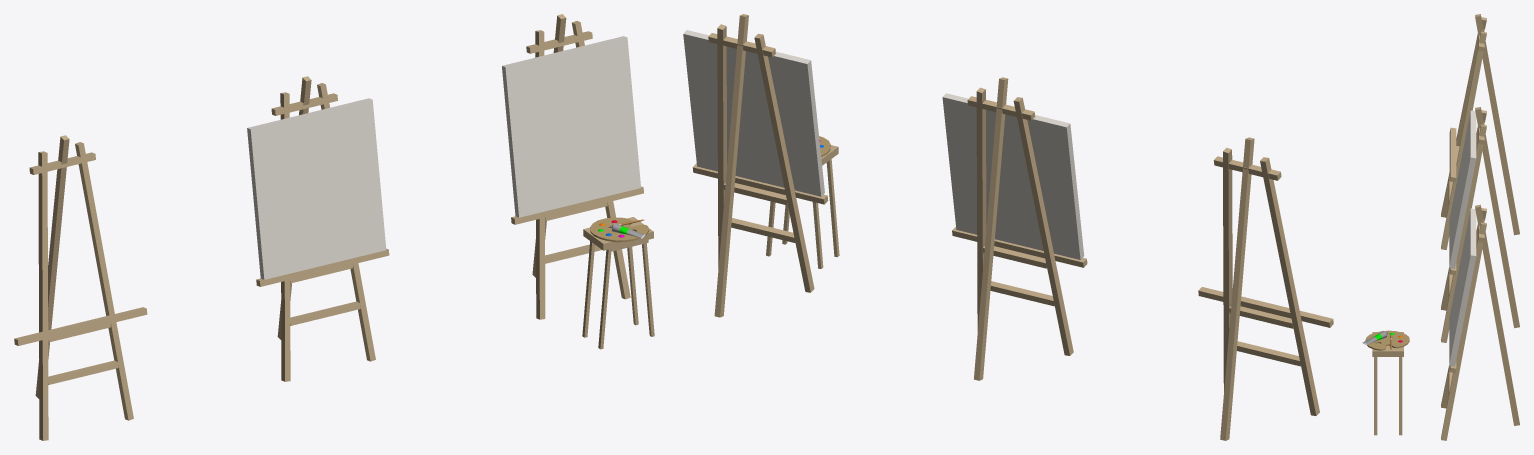
File: painting3.fbx
3 views of the same model, side by side, from view 1: azimuth 30°, elevation 25°; view 2: azimuth 150°, elevation 25°; view 3: azimuth 270°, elevation 25° (orthographic). The views are drawn at different scales.
Visible parts, largest first — view 1: polySurface17, polySurface35, polySurface5, polySurface2, polySurface1, polySurface6, polySurface15, polySurface28, polySurface20, polySurface18, polySurface30, polySurface22 (+4 smaller); view 2: polySurface35, polySurface17, polySurface1, polySurface29, polySurface16, polySurface28, polySurface15, polySurface5, polySurface2, polySurface20, polySurface32, polySurface6 (+5 smaller); view 3: polySurface17, polySurface35, polySurface29, polySurface1, polySurface16, polySurface32, polySurface2, polySurface20, polySurface5, polySurface22, polySurface6, polySurface10 (+4 smaller).
Boxes of the visible parts, box(x1,y1,x2,y2) form: polySurface17: box(247, 98, 386, 279); polySurface35: box(502, 36, 640, 217); polySurface5: box(38, 151, 48, 440); polySurface2: box(75, 142, 133, 420); polySurface1: box(35, 135, 69, 398); polySurface6: box(14, 307, 147, 345); polySurface15: box(280, 92, 290, 381); polySurface28: box(535, 30, 545, 319); polySurface20: box(317, 83, 375, 361); polySurface18: box(256, 248, 389, 286); polySurface30: box(511, 186, 643, 224); polySurface22: box(590, 217, 649, 242); polySurface35: box(683, 30, 824, 196); polySurface17: box(942, 93, 1084, 259); polySurface1: box(1220, 137, 1254, 440); polySurface29: box(714, 14, 748, 317); polySurface16: box(974, 77, 1008, 380); polySurface28: box(754, 33, 814, 292); polySurface15: box(1013, 97, 1073, 355); polySurface5: box(1260, 157, 1319, 415); polySurface2: box(1223, 147, 1232, 390); polySurface20: box(976, 87, 986, 331); polySurface32: box(717, 24, 727, 268); polySurface6: box(1198, 287, 1333, 327); polySurface17: box(1449, 110, 1476, 268); polySurface35: box(1449, 208, 1476, 366); polySurface29: box(1475, 204, 1519, 425); polySurface1: box(1475, 14, 1519, 235); polySurface16: box(1475, 107, 1519, 328); polySurface32: box(1441, 222, 1486, 440); polySurface2: box(1441, 31, 1486, 249); polySurface20: box(1441, 124, 1486, 342); polySurface5: box(1441, 17, 1486, 217); polySurface22: box(1365, 330, 1409, 350); polySurface6: box(1449, 127, 1456, 182); polySurface10: box(1399, 357, 1402, 435).
Size of the model in its own units: 9.74 by 4.15 by 2.7.
